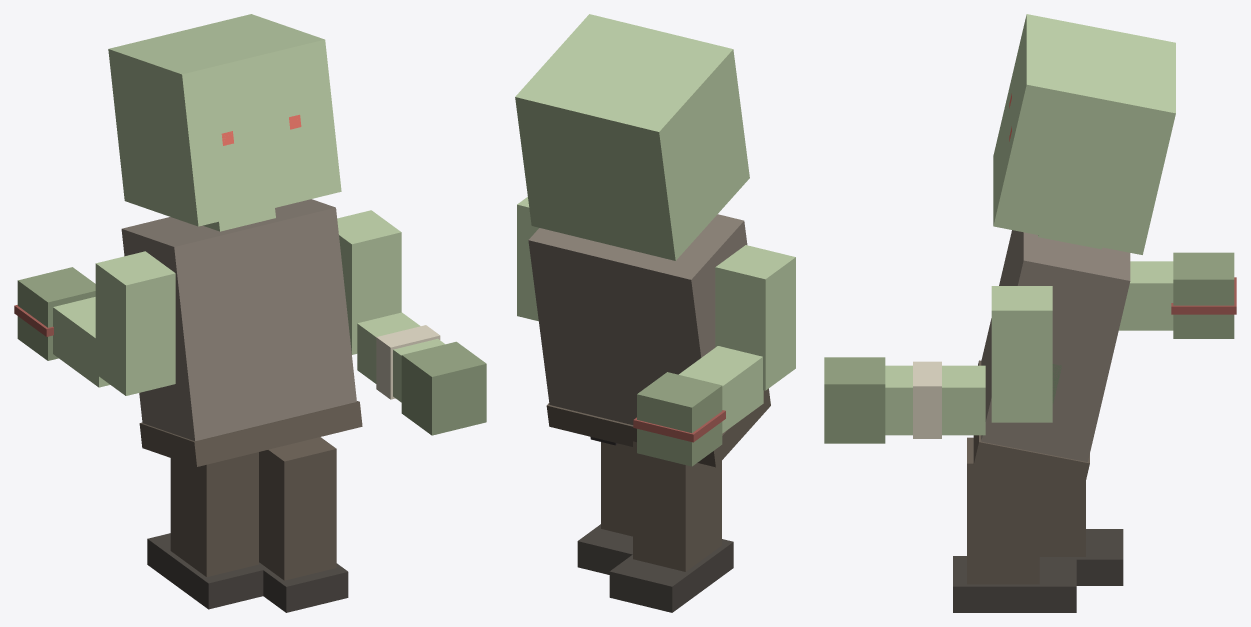
The model's file is zombie-runner.fbx.
3 views of the same model, side by side, from view 1: azimuth 30°, elevation 25°; view 2: azimuth 150°, elevation 25°; view 3: azimuth 270°, elevation 25° (orthographic).
Visible parts, largest first — view 1: ZombieRunner; view 2: ZombieRunner; view 3: ZombieRunner.
Boxes of the visible parts, <box> form: ZombieRunner: <box>14,14,486,612</box>; ZombieRunner: <box>515,14,795,612</box>; ZombieRunner: <box>824,14,1236,612</box>.
Size of the model in its own units: 216 by 406 by 284.
